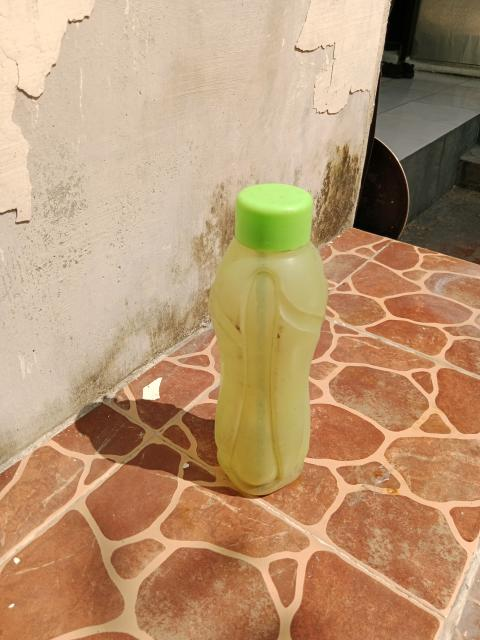botol: (192, 172, 338, 510)
